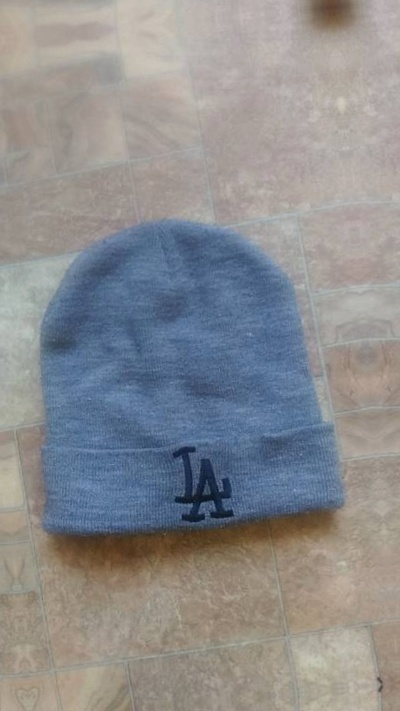Hat: (9, 199, 363, 575), (374, 162, 400, 538)
